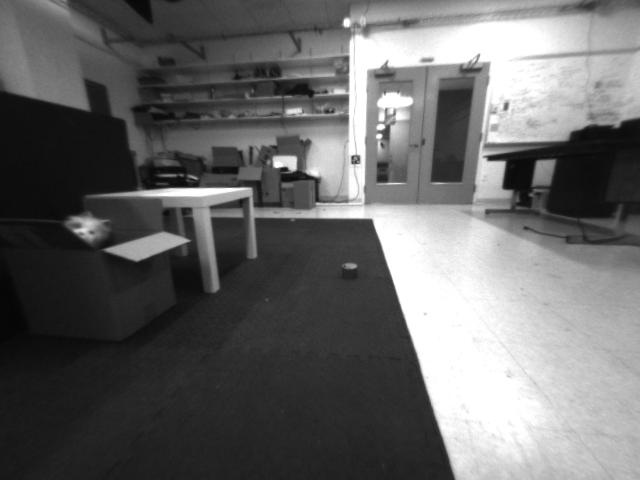dogtoy: (327, 249, 369, 293)
